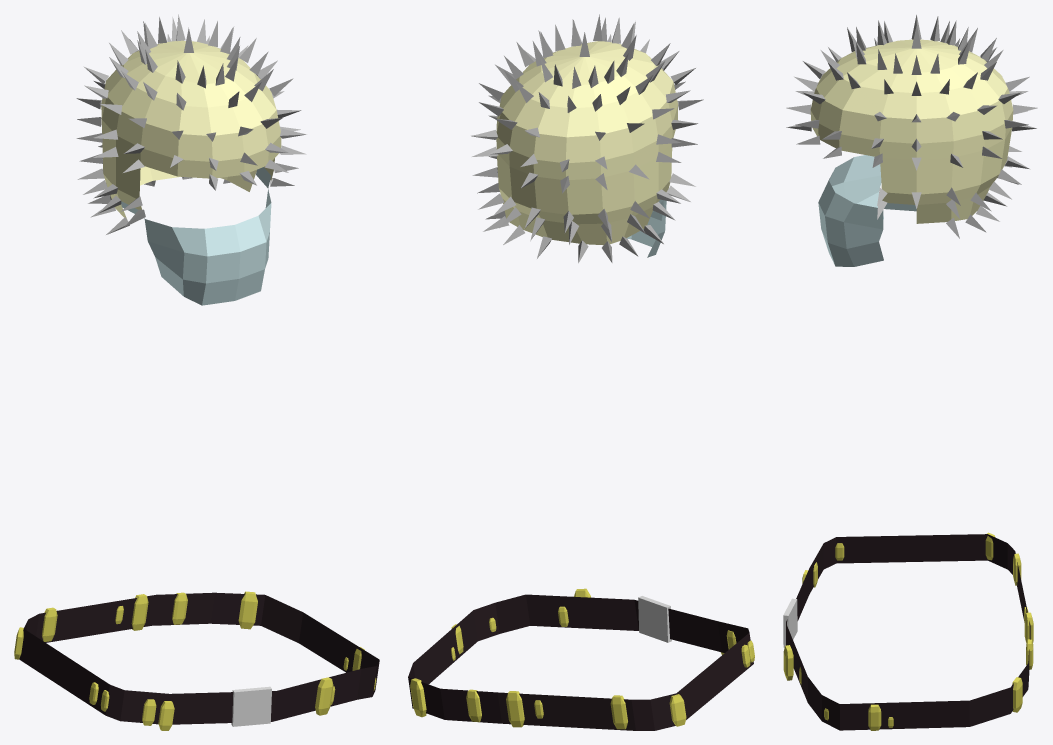
The model's file is Chief_Details.fbx.
3 renders of one model, left to right at view 1: azimuth 30°, elevation 25°; view 2: azimuth 150°, elevation 25°; view 3: azimuth 270°, elevation 25°, orthographic. The views are drawn at different scales.
Visible parts, largest first — view 1: Capacete, Circle, Mascara; view 2: Capacete, Circle, Mascara; view 3: Capacete, Circle, Mascara.
Part boxes in pixels (left/top/right/bottom): Capacete: left=76, top=14, right=306, bottom=234; Circle: left=14, top=591, right=379, bottom=730; Mascara: left=121, top=167, right=271, bottom=305; Capacete: left=471, top=14, right=703, bottom=263; Circle: left=408, top=588, right=754, bottom=730; Mascara: left=627, top=199, right=666, bottom=257; Capacete: left=786, top=15, right=1037, bottom=238; Circle: left=783, top=532, right=1033, bottom=730; Mascara: left=818, top=155, right=916, bottom=266.
Bounding box in the file's own units: 64.8 × 143 × 51.94.
